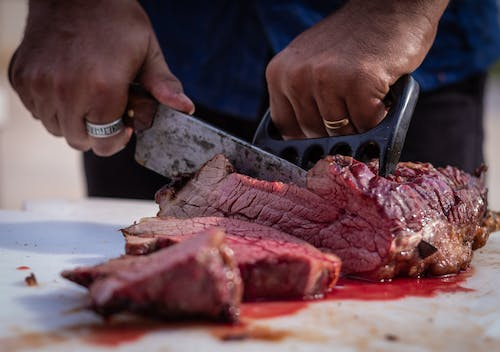blood: (12, 258, 477, 352)
knife: (119, 82, 310, 192)
